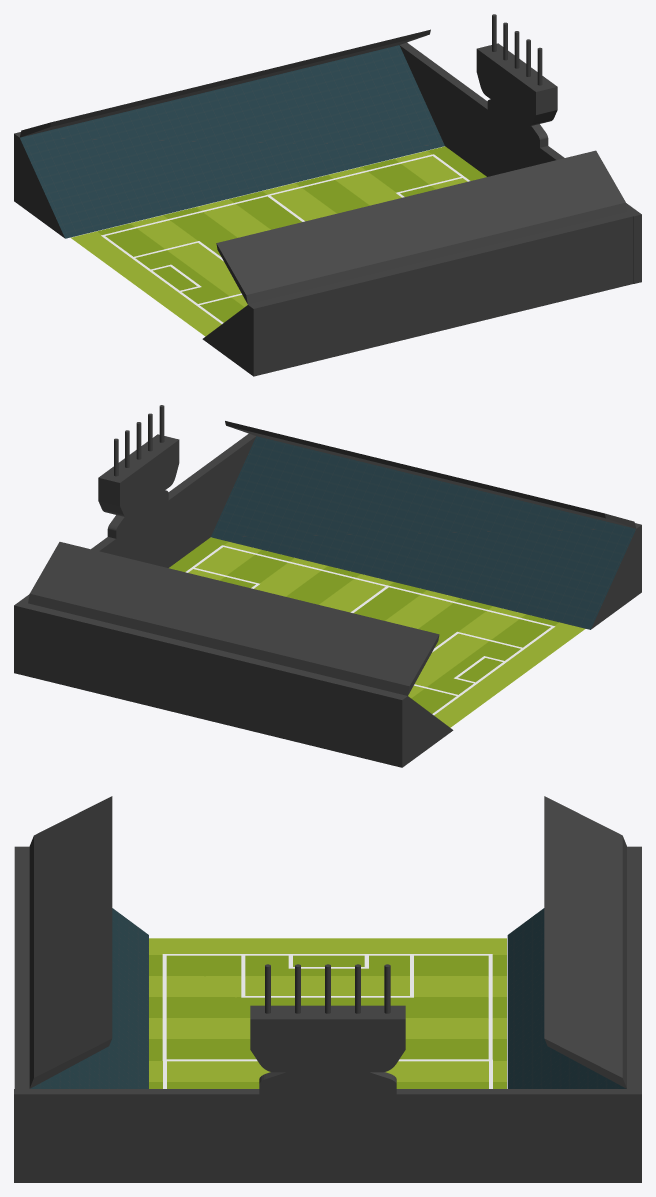
File: stadium.glb
3 views of the same model, one above another, from view 1: azimuth 30°, elevation 25°; view 2: azimuth 150°, elevation 25°; view 3: azimuth 270°, elevation 25° (orthographic). The views are drawn at different scales.
Visible parts, largest first — view 1: Left Stand, Right Stand, Right Lights, Pitch, Back Wall, Cube.001, Left Lights, Cube; view 2: Right Stand, Left Stand, Left Lights, Pitch, Back Wall, Cube.001, Right Lights, Cube; view 3: Back Wall, Pitch, Right Lights, Left Lights, Right Stand, Left Stand, Cube.001, Cube, End Line.001.
Part boxes in pixels (<box>): Left Stand: <box>14,45,444,238</box>; Right Stand: <box>202,212,633,376</box>; Right Lights: <box>216,150,627,304</box>; Pitch: <box>71,146,486,336</box>; Back Wall: <box>399,42,641,283</box>; Cube.001: <box>476,43,557,126</box>; Left Lights: <box>19,29,430,137</box>; Cube: <box>487,99,548,147</box>; Right Stand: <box>211,436,641,629</box>; Left Stand: <box>22,603,453,767</box>; Left Lights: <box>28,542,439,695</box>; Pitch: <box>169,537,585,727</box>; Back Wall: <box>14,433,256,674</box>; Cube.001: <box>98,434,179,517</box>; Right Lights: <box>225,421,636,528</box>; Cube: <box>107,490,168,538</box>; Back Wall: <box>14,1089,641,1182</box>; Pitch: <box>149,938,506,1088</box>; Right Lights: <box>29,796,112,1088</box>; Left Lights: <box>544,796,626,1088</box>; Right Stand: <box>14,846,148,1088</box>; Left Stand: <box>507,846,641,1088</box>; Cube.001: <box>250,1005,405,1072</box>; Cube: <box>259,1072,396,1094</box>; End Line.001: <box>162,954,492,955</box>.
Size of the model in its own units: 22.83 by 9.06 by 24.07.
4 materials, 2 textured.
